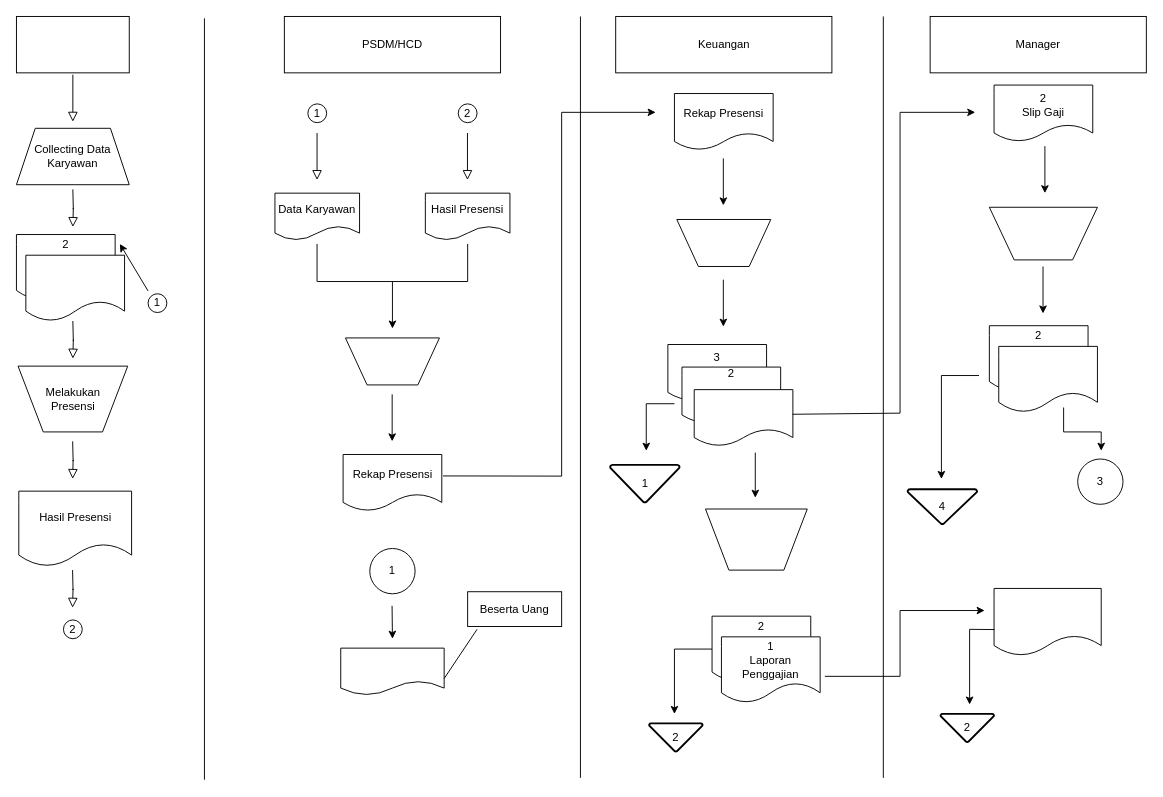
Some shapes in this 1163 by 797 pixel diagram are drawn without their labels. Here are the shapes that lost their labels. From the top down, the box of each, then its label:
(16, 16, 129, 73): Karyawan
(676, 219, 771, 266): Membuat Slip Gaji
(988, 206, 1097, 260): Memvalidasi Slip Gaji
(25, 254, 125, 321): 1 Data Karyawan
(345, 337, 439, 385): Merekap Presensi
(998, 345, 1097, 412): 1 Slip Gaji yang Telah Divalidasi
(693, 389, 793, 446): 1 Slip Gaji
(705, 508, 807, 570): Membuat Laporan Penggajian
(993, 588, 1101, 656): 2 Laporan Penggajian
(340, 647, 444, 695): Rekap Hasil yang Divalidasi
